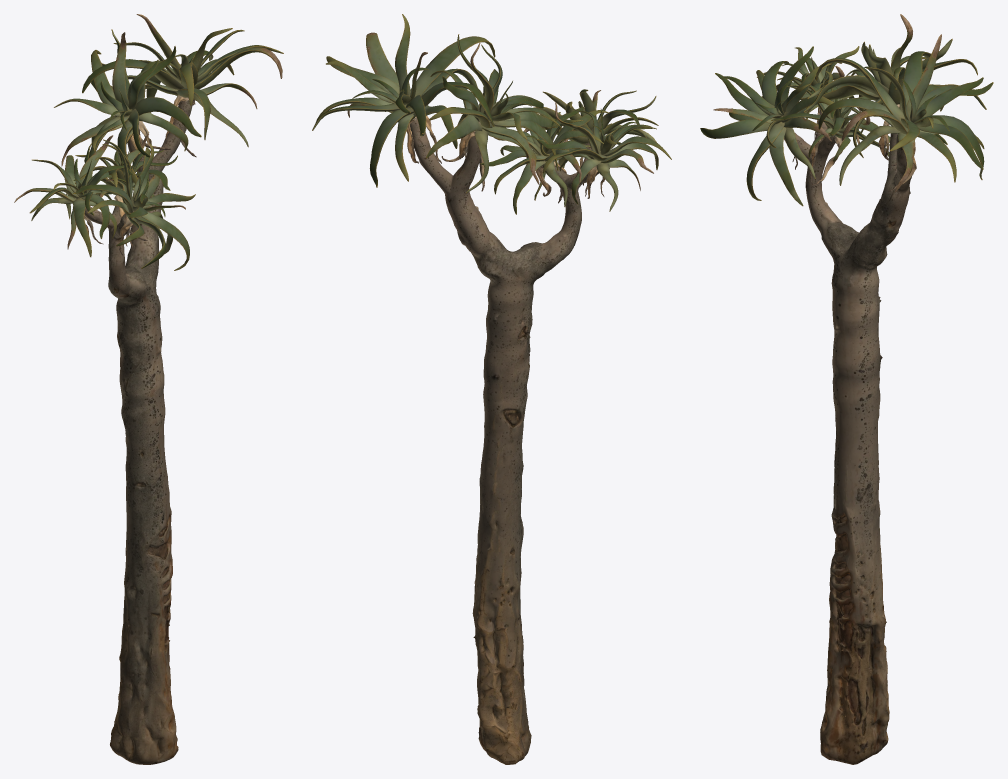
The model's file is tree_quiver1.glb.
3 views of the same model, side by side, from view 1: azimuth 30°, elevation 25°; view 2: azimuth 150°, elevation 25°; view 3: azimuth 270°, elevation 25° (orthographic). The views are drawn at different scales.
Parts seen in each view (by area): view 1: quiver_tree_01; view 2: quiver_tree_01; view 3: quiver_tree_01.
Part boxes in pixels (x1,y1,x2,y2): quiver_tree_01: [14, 14, 283, 764]; quiver_tree_01: [312, 14, 671, 764]; quiver_tree_01: [700, 14, 993, 764].
Size of the model in its own units: 1.18 by 2.72 by 0.9685.
Materials: 2 (2 with a texture image).
